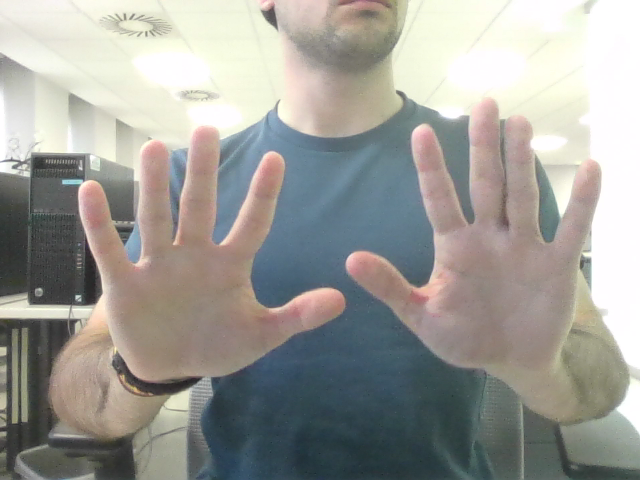Manos Arriba: (115, 123, 566, 344)
